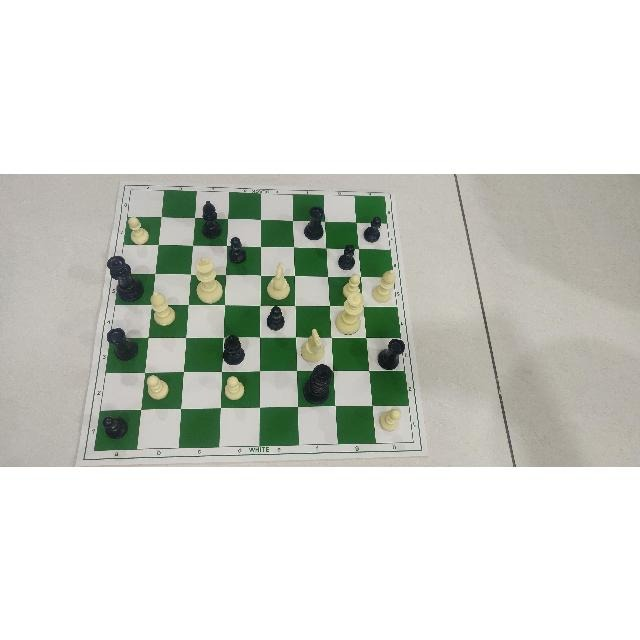black-bishop: (219, 331, 248, 367), (199, 200, 225, 236)
black-king: (300, 363, 335, 405)
black-pawn: (99, 411, 127, 445), (263, 302, 289, 332), (361, 213, 386, 243), (336, 240, 359, 270), (227, 233, 250, 262)
black-queen: (103, 252, 142, 302)
black-rook: (105, 326, 139, 363), (375, 337, 409, 373), (305, 204, 331, 241)
white-bishop: (145, 287, 179, 328), (374, 266, 401, 302)
white-king: (194, 256, 222, 300)
white-knight: (262, 260, 291, 300), (298, 325, 326, 358)
white-pawn: (124, 215, 152, 242), (221, 370, 243, 404), (381, 406, 408, 430), (145, 374, 167, 399), (341, 272, 363, 294)
white-queen: (337, 293, 370, 334)
